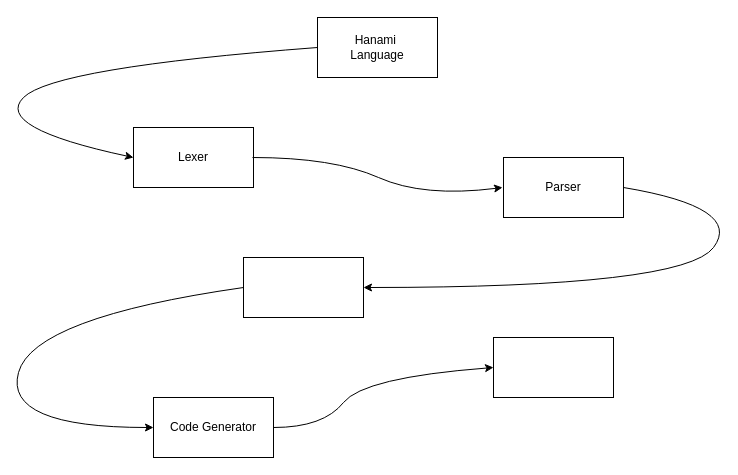
Image size: 738x475. Some labels were removed from this diagram. The shapes that lost their labels are listed below. From the top down, each one's centre as x and y in pixels, then its label:
At point (303, 287): "Semantic Analyzer".
At point (553, 367): "Output(Other languages)".
